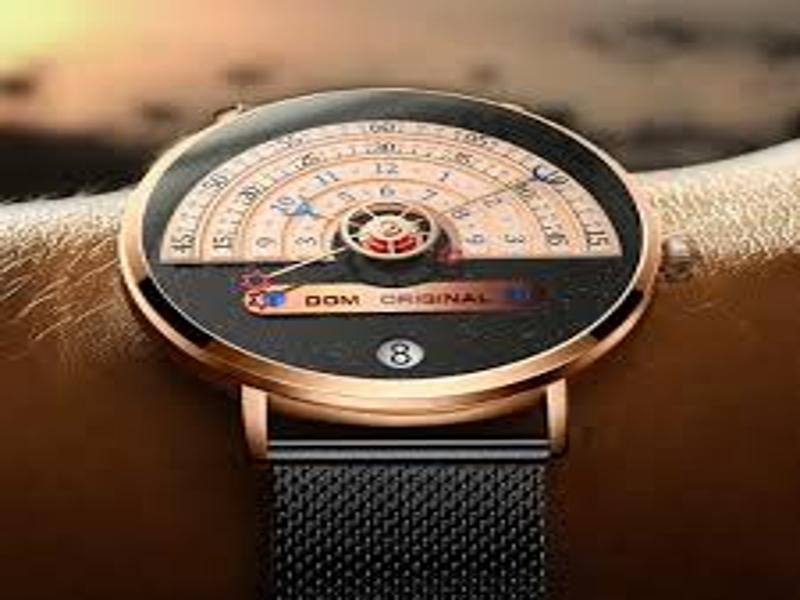watch: (117, 84, 694, 509)
